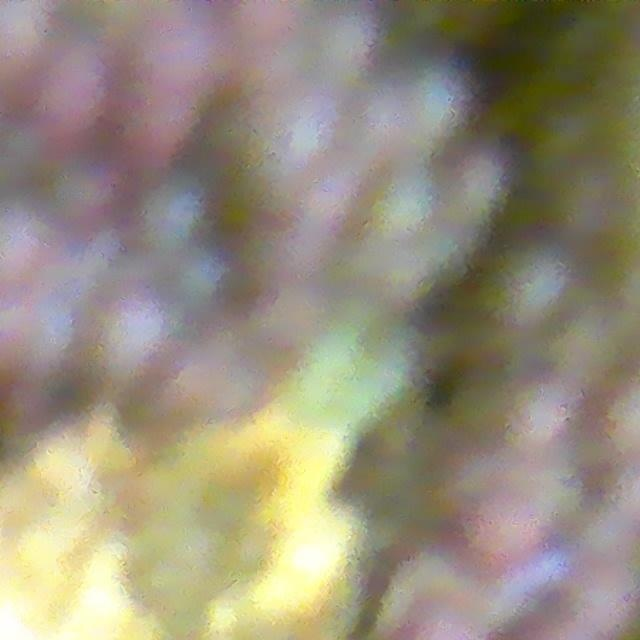SeaGrape: (448, 468, 545, 581), (104, 68, 195, 176), (94, 281, 171, 389), (135, 22, 220, 99), (30, 53, 99, 145), (0, 202, 60, 306), (0, 17, 51, 112)
